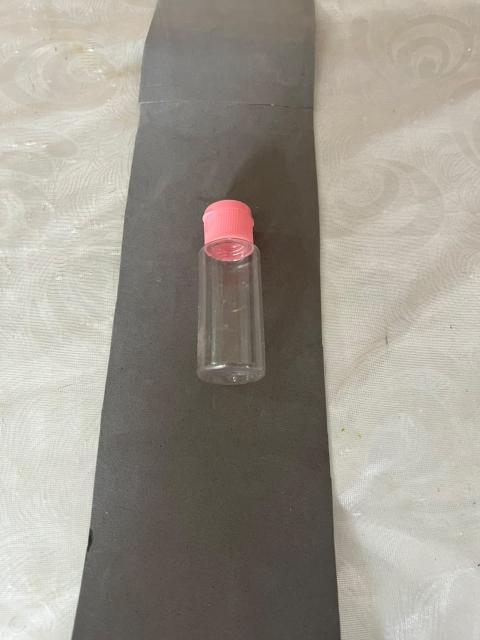PET: (162, 142, 302, 423)
